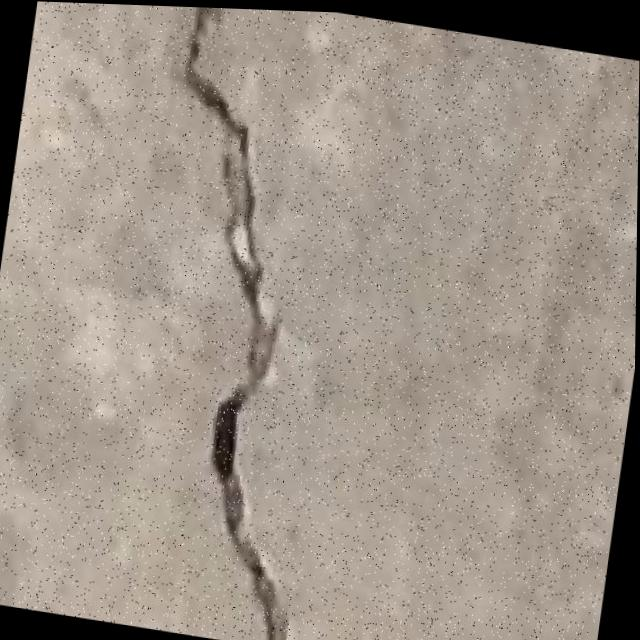Crack: (88, 3, 392, 640)
